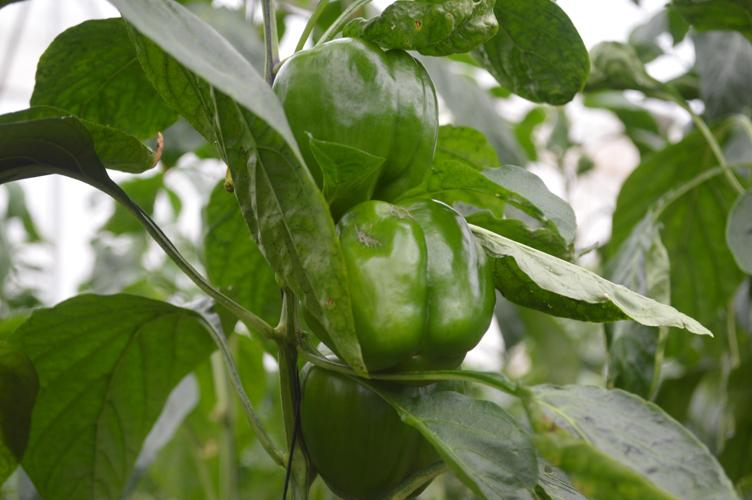BellPepper: (312, 197, 520, 362), (268, 44, 439, 198), (288, 355, 452, 500)
